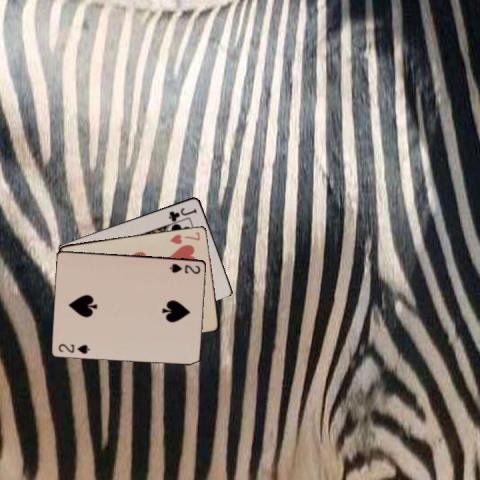2s: (55, 341, 91, 355), (167, 260, 202, 274)
7h: (168, 229, 202, 245)
Jc: (166, 205, 198, 222)
